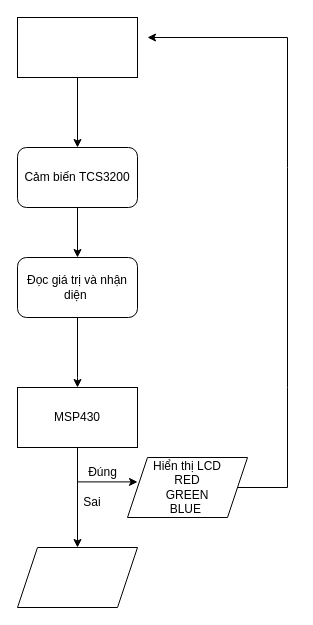
Some shapes in this 313 by 625 pixel diagram are drawn without their labels. The shapes that lost their labels are listed below. From the top down, each one's box as (x1, y1, x2, y2) in pixels, then its label:
(16, 16, 138, 78): RED GREEN BLUE
(16, 546, 138, 608): Hiển thị LCD Unknown Color
